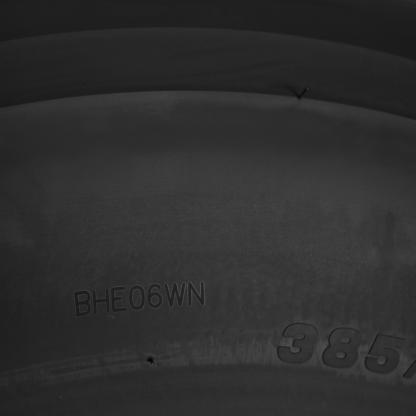ocr: (73, 279, 207, 322)
